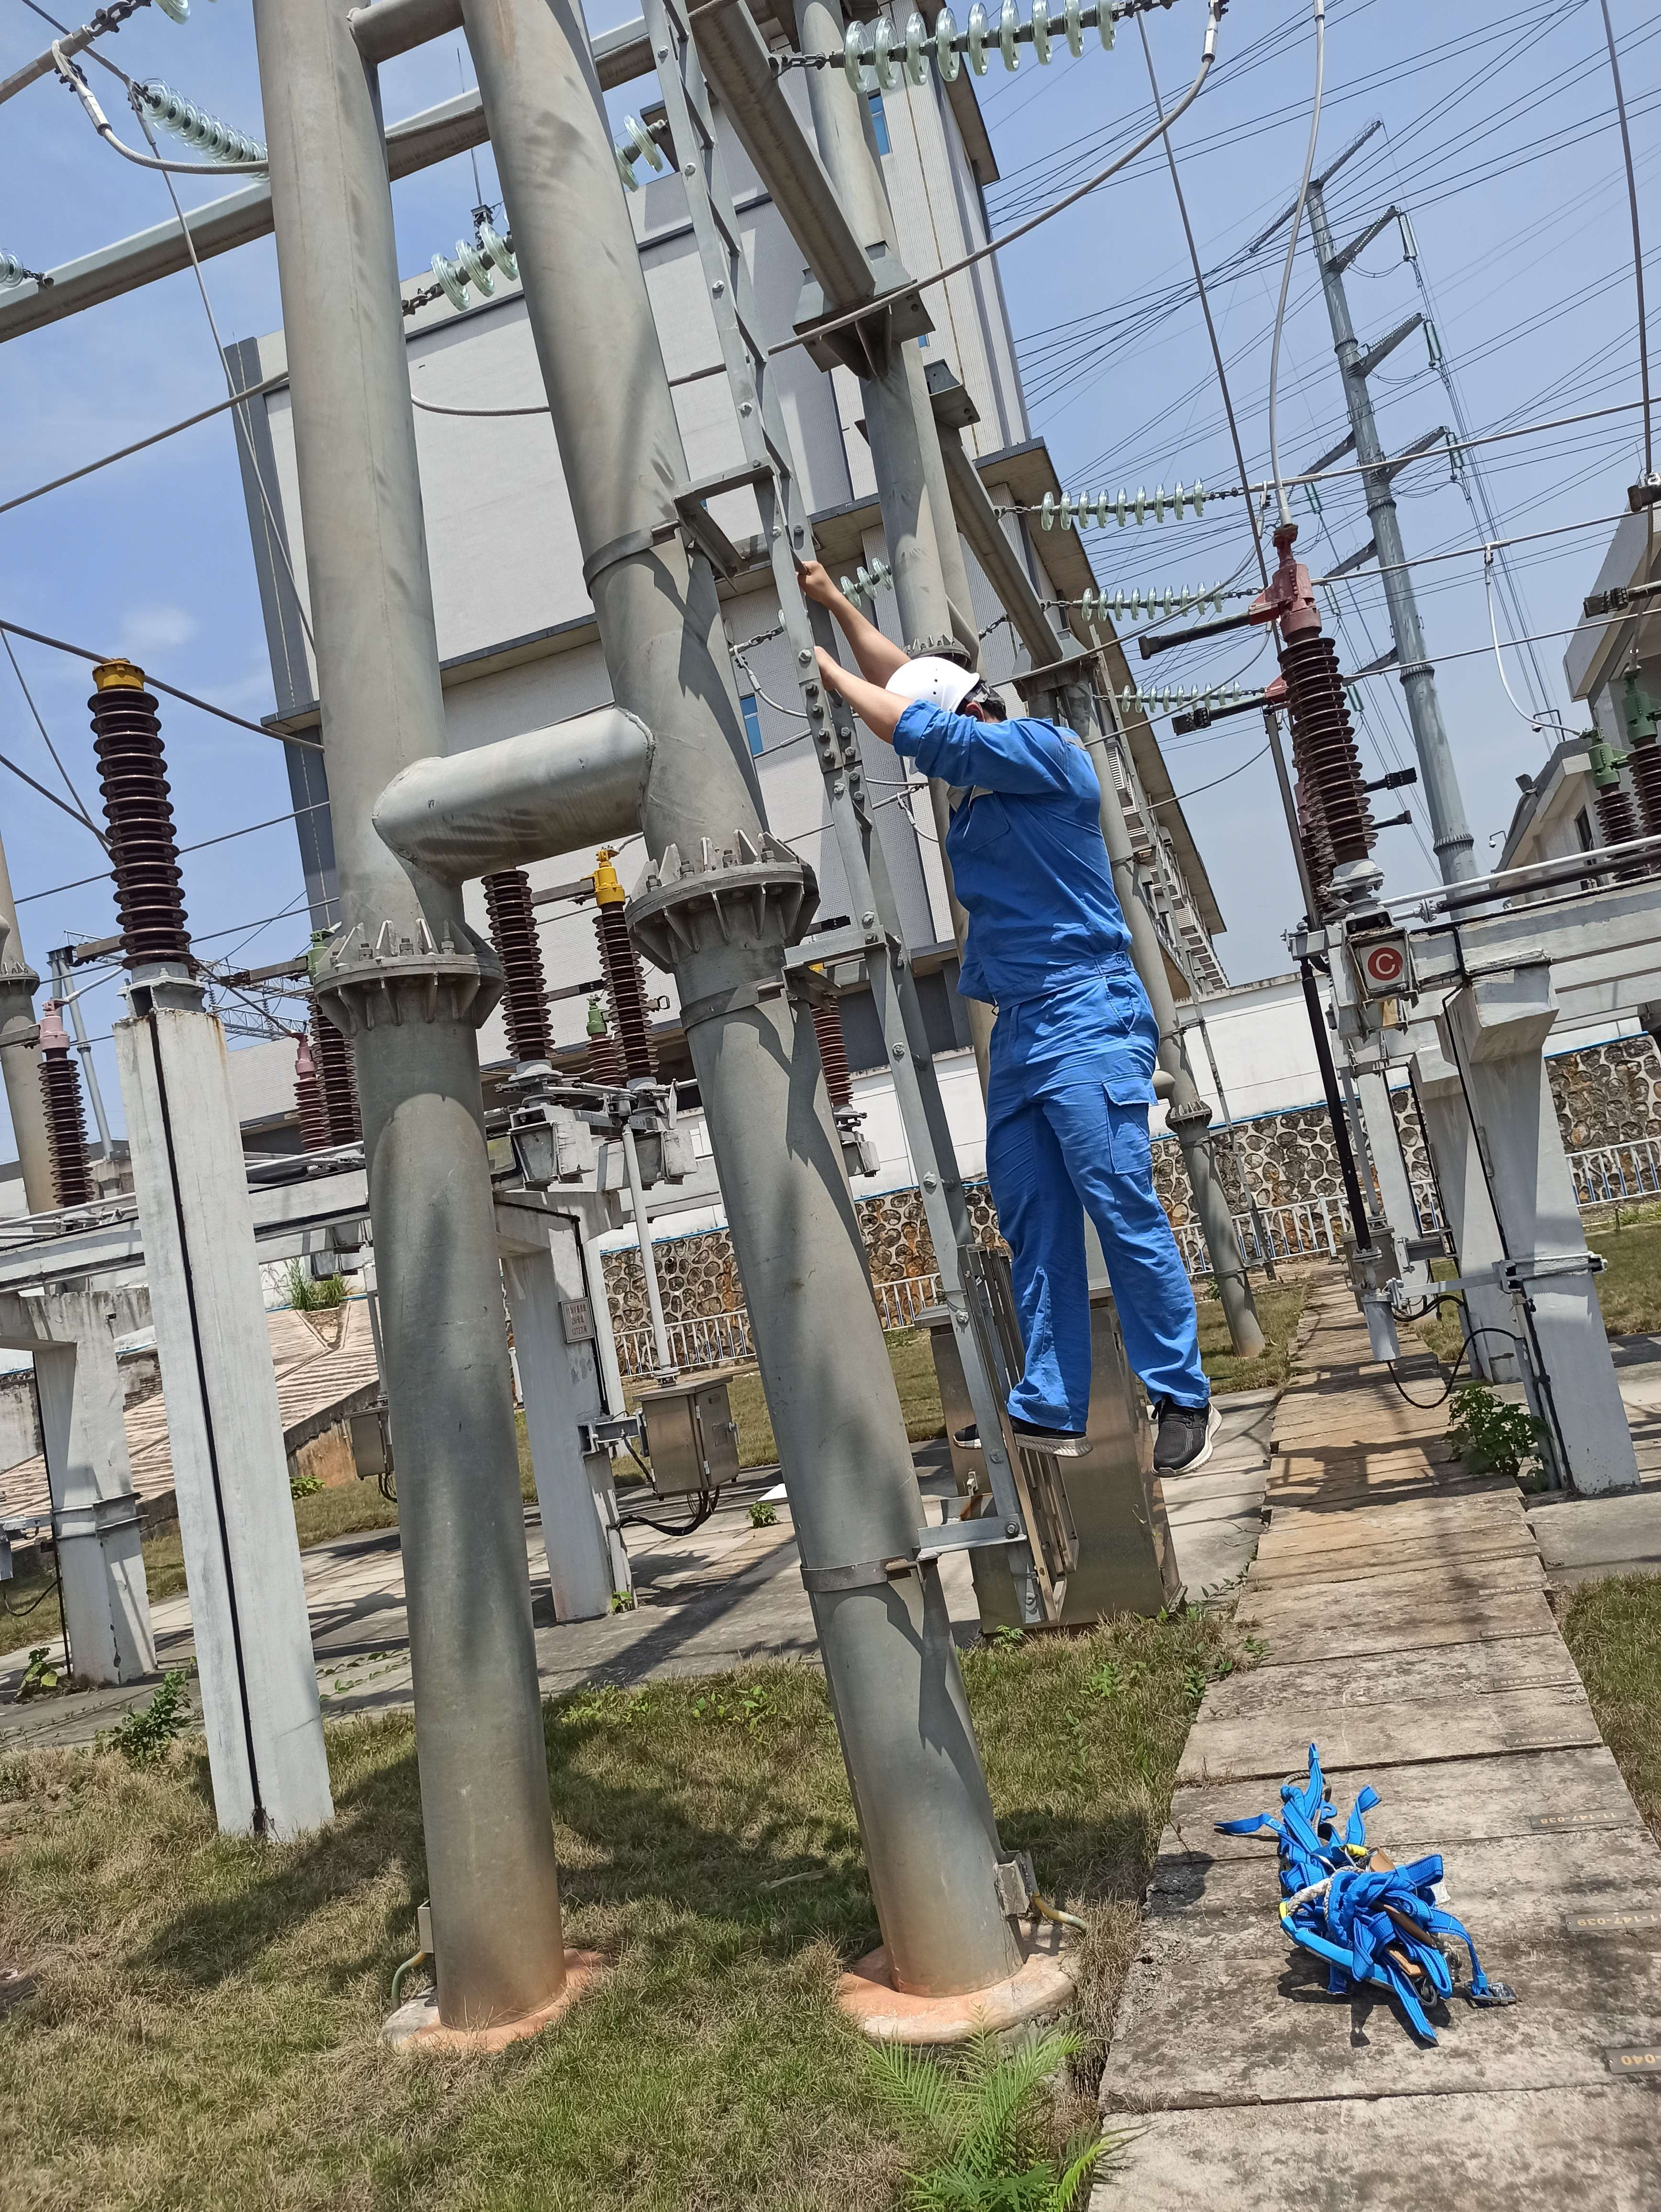downsuit: (981, 1031, 1204, 1423)
upsuit: (899, 712, 1138, 1010)
wrongtop: (803, 567, 942, 727)
